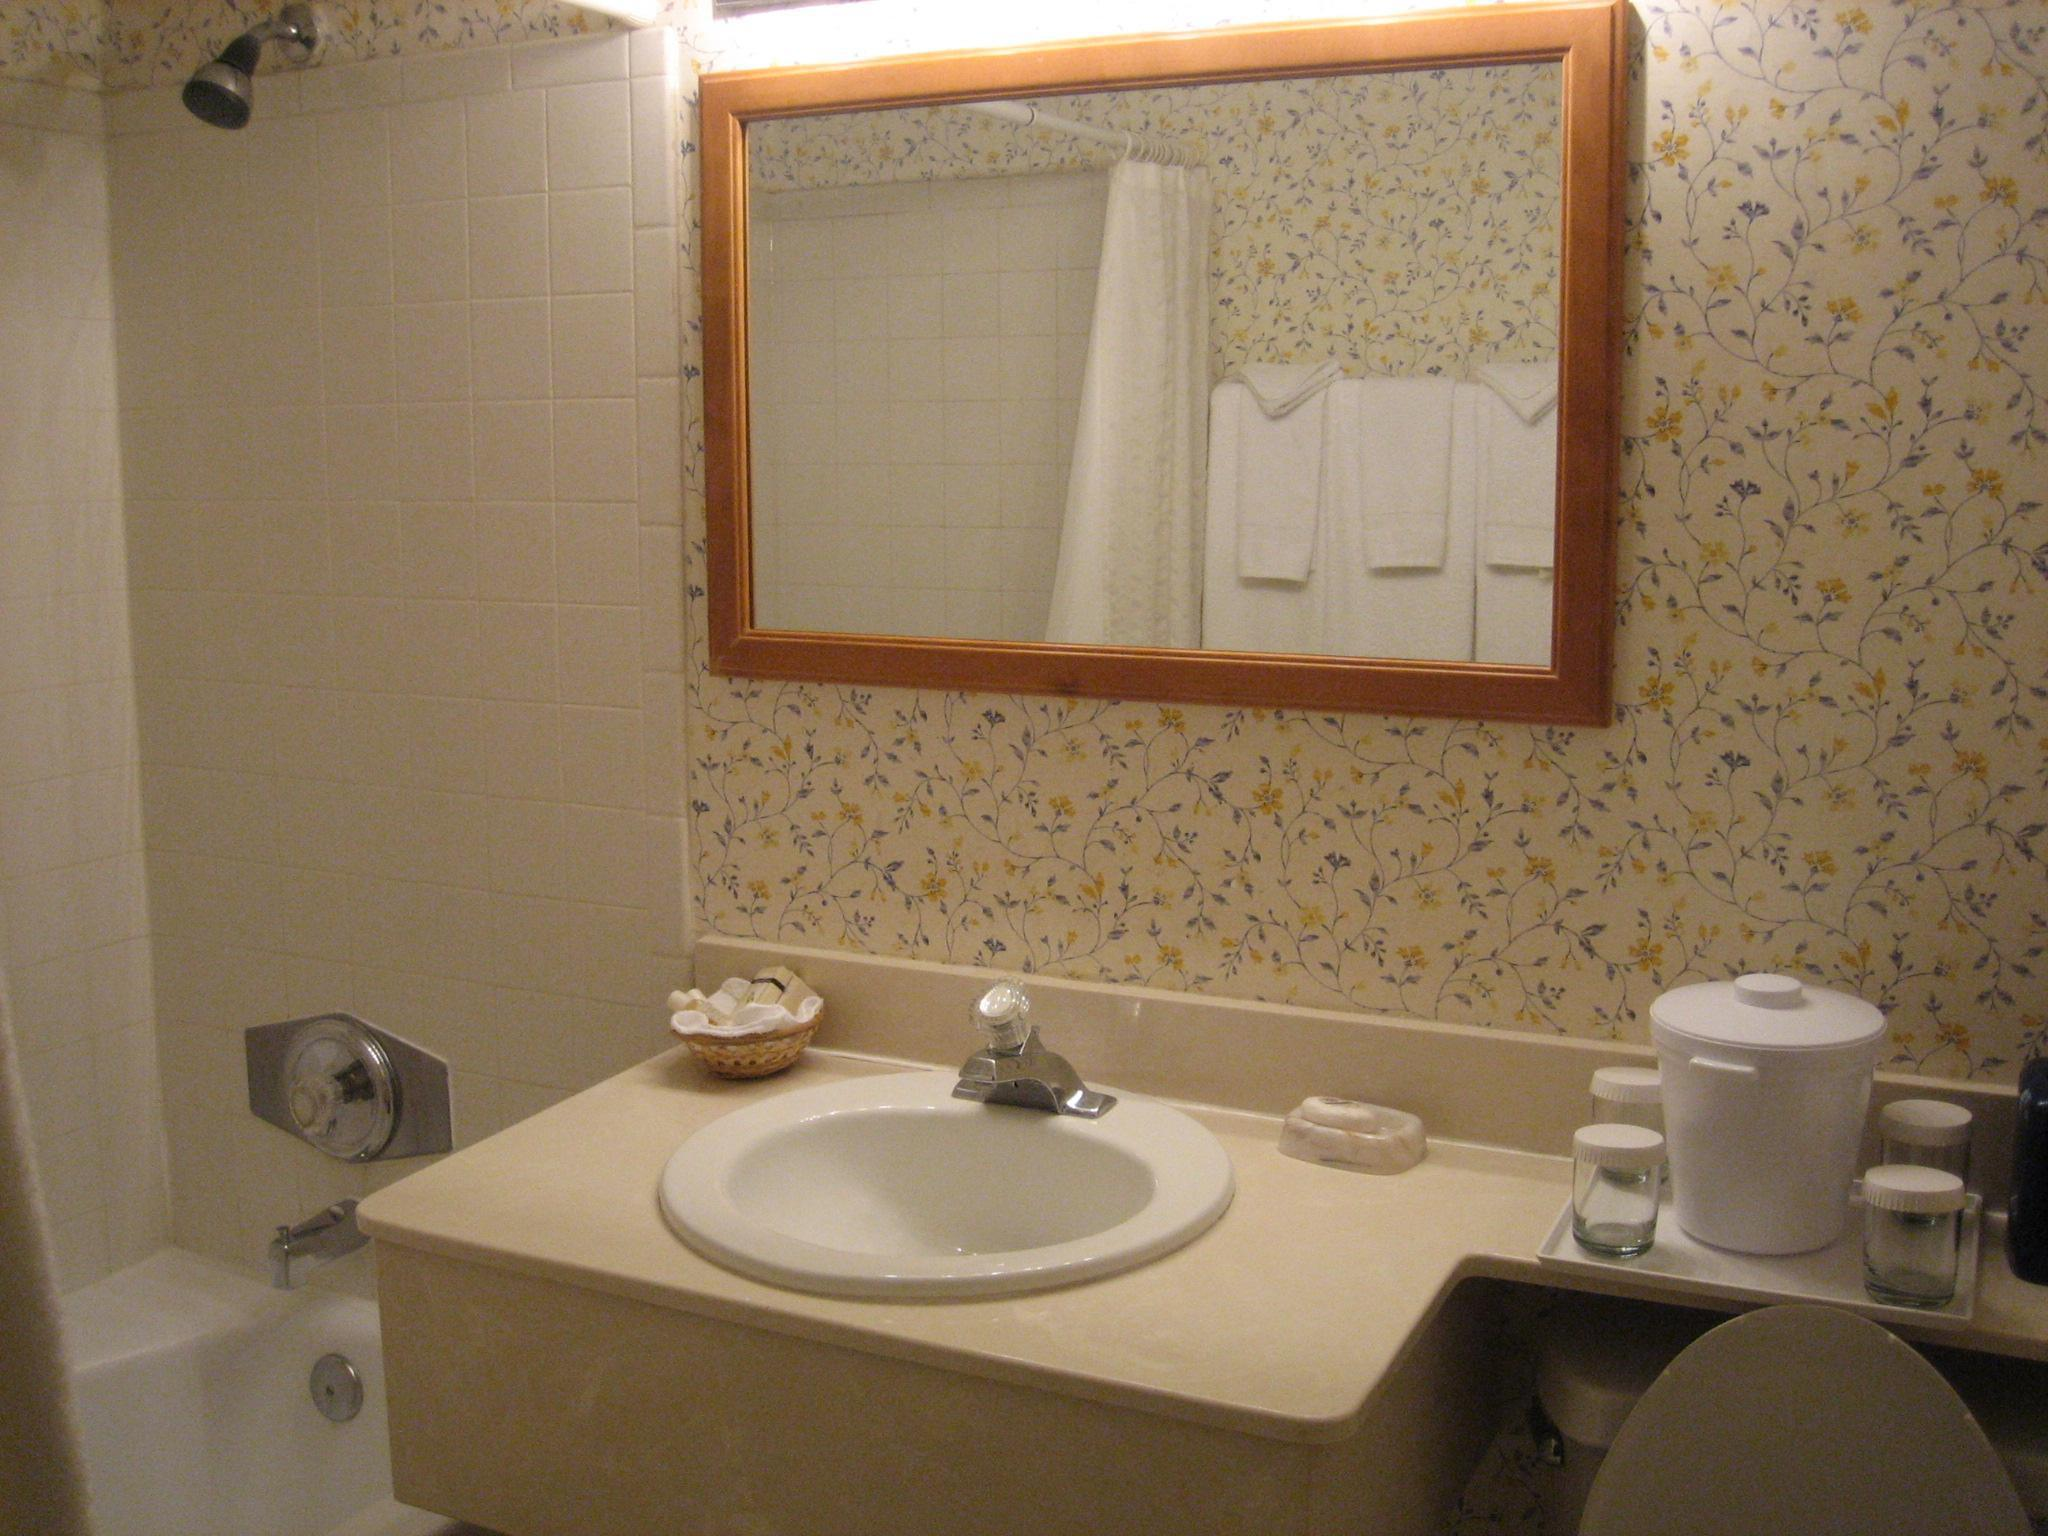Ducha: (85, 23, 642, 1049)
Lavamanos: (660, 971, 1213, 1299)
